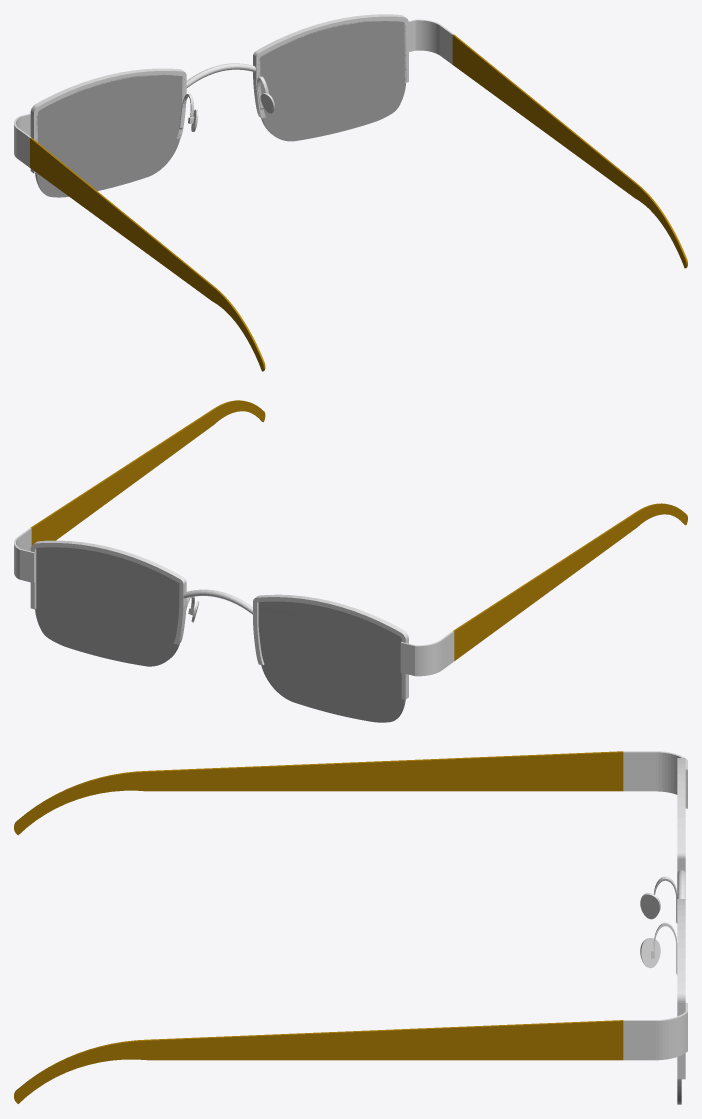
3 renders of one model, top to bottom at view 1: azimuth 30°, elevation 25°; view 2: azimuth 150°, elevation 25°; view 3: azimuth 270°, elevation 25°, orthographic. The views are drawn at different scales.
Parts seen in each view (by area): view 1: skpB7B1_001; view 2: skpB7B1_001; view 3: skpB7B1_001.
Part boxes in pixels (<box>): skpB7B1_001: <box>14,14,687,371</box>; skpB7B1_001: <box>14,400,687,722</box>; skpB7B1_001: <box>14,751,687,1104</box>.
Size of the model in its own units: 14.78 by 3.68 by 15.6.
